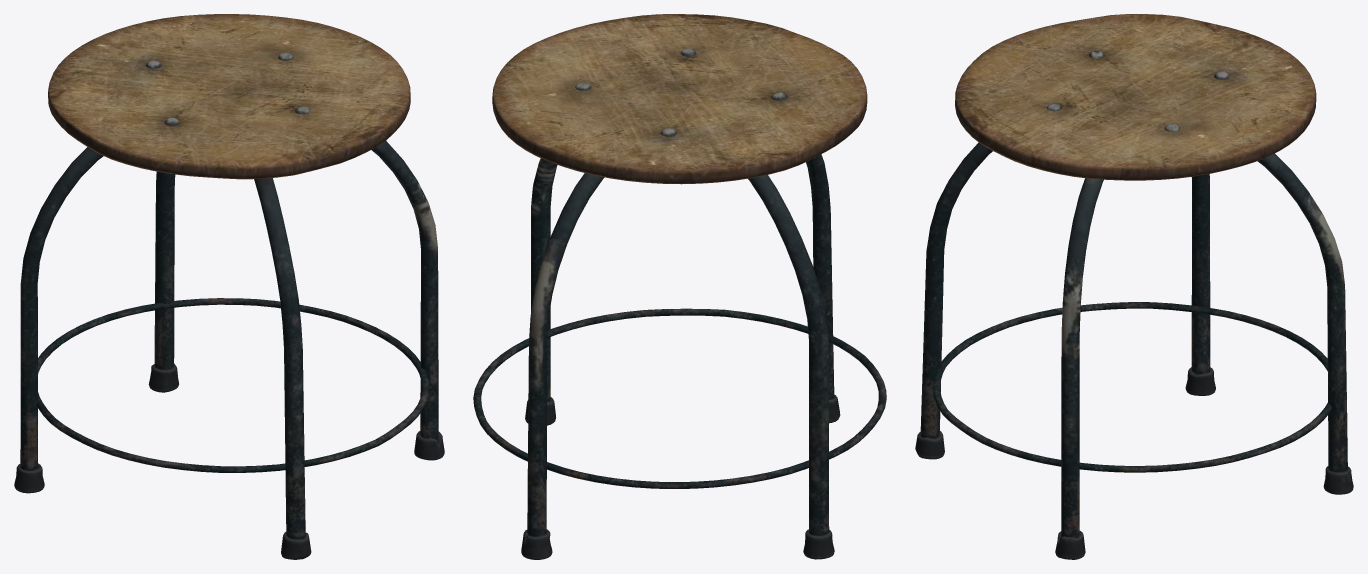
Rendered from metal_stool_02.glb.
The picture shows the model from 3 angles, left to right: view 1: azimuth 30°, elevation 25°; view 2: azimuth 150°, elevation 25°; view 3: azimuth 270°, elevation 25°; orthographic projection. The views are drawn at different scales.
Visible parts, largest first — view 1: metal_stool_02; view 2: metal_stool_02; view 3: metal_stool_02.
Boxes of the visible parts, <box> form: metal_stool_02: <box>14,14,444,559</box>; metal_stool_02: <box>473,14,886,559</box>; metal_stool_02: <box>915,14,1353,559</box>.
Size of the model in its own units: 0.4481 by 0.4581 by 0.4731.
Materials: 1 (1 with a texture image).
